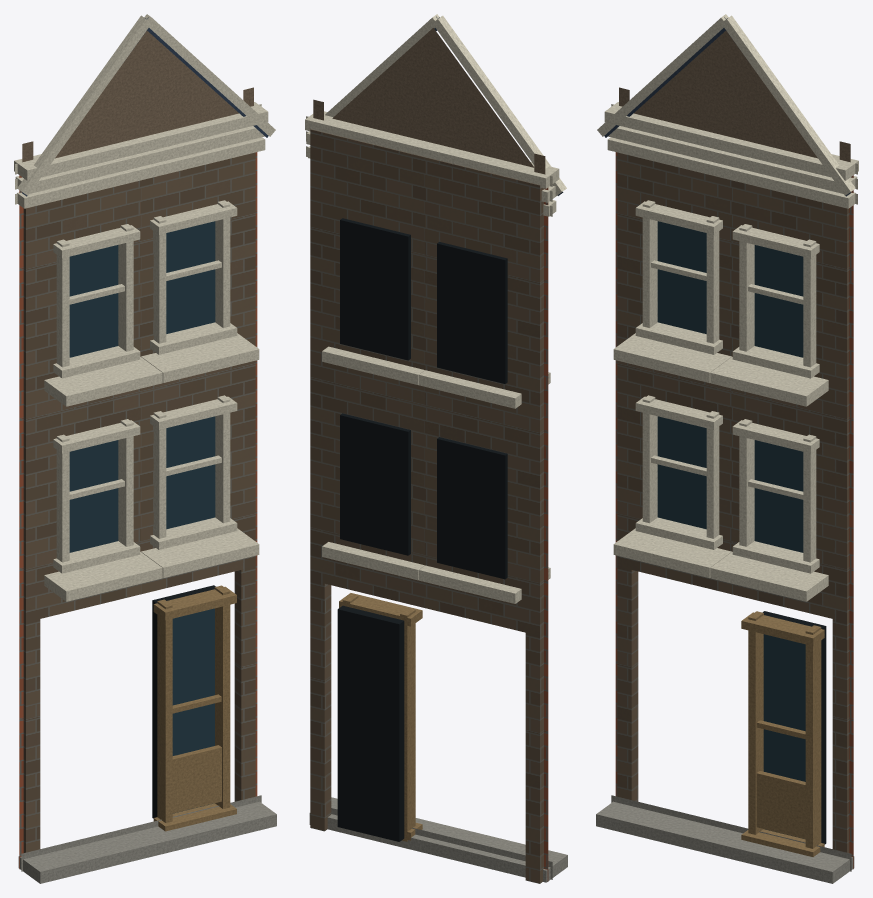
Rendered from VICT29_lod2.glb.
The picture shows the model from 3 angles, left to right: view 1: azimuth 30°, elevation 25°; view 2: azimuth 150°, elevation 25°; view 3: azimuth 330°, elevation 25°; orthographic projection.
Visible parts, largest first — view 1: VICT29_FRONT_LOD2; view 2: VICT29_FRONT_LOD2; view 3: VICT29_FRONT_LOD2.
Part boxes in pixels (x1,y1,x2,y2): VICT29_FRONT_LOD2: (14, 14, 276, 883); VICT29_FRONT_LOD2: (305, 14, 567, 883); VICT29_FRONT_LOD2: (596, 14, 858, 883).
Bounding box in the file's own units: 3.54 × 11.06 × 0.85.
10 materials, 8 textured.
